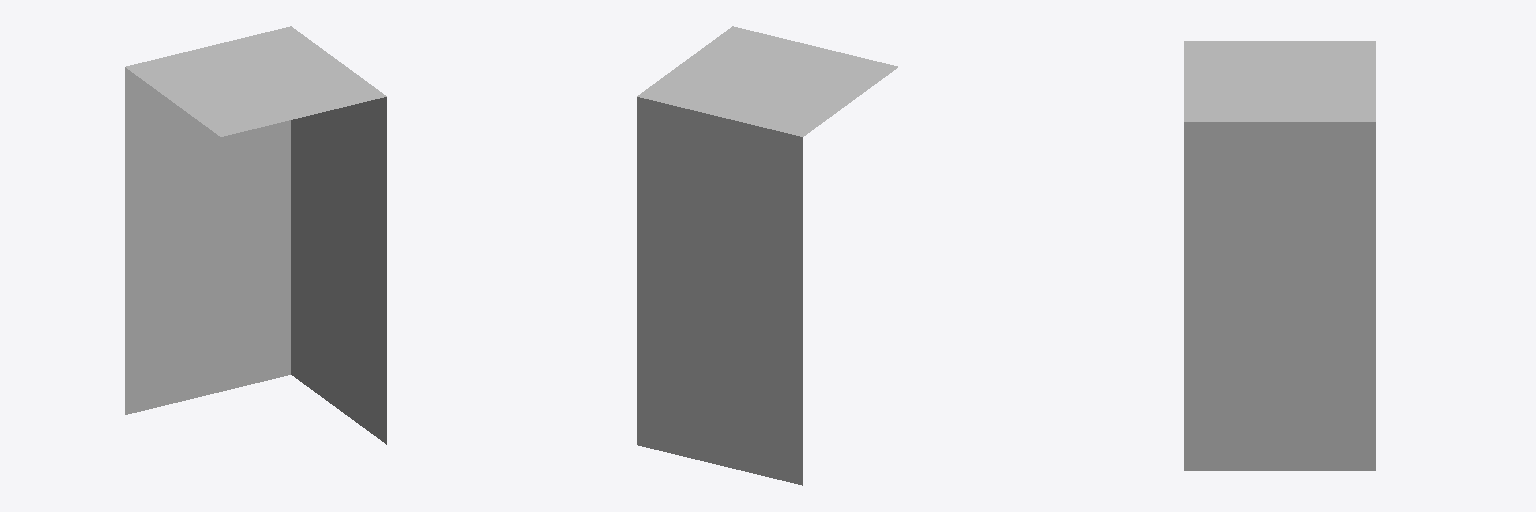
The model's file is corner.obj.
3 views of the same model, side by side, from view 1: azimuth 30°, elevation 25°; view 2: azimuth 150°, elevation 25°; view 3: azimuth 270°, elevation 25° (orthographic).
Parts seen in each view (by area): view 1: Corner; view 2: Corner; view 3: Corner.
Boxes of the visible parts, <box> form: Corner: <box>125,26,386,444</box>; Corner: <box>637,26,897,485</box>; Corner: <box>1184,41,1375,470</box>.
Size of the model in its own units: 1 by 2 by 1.